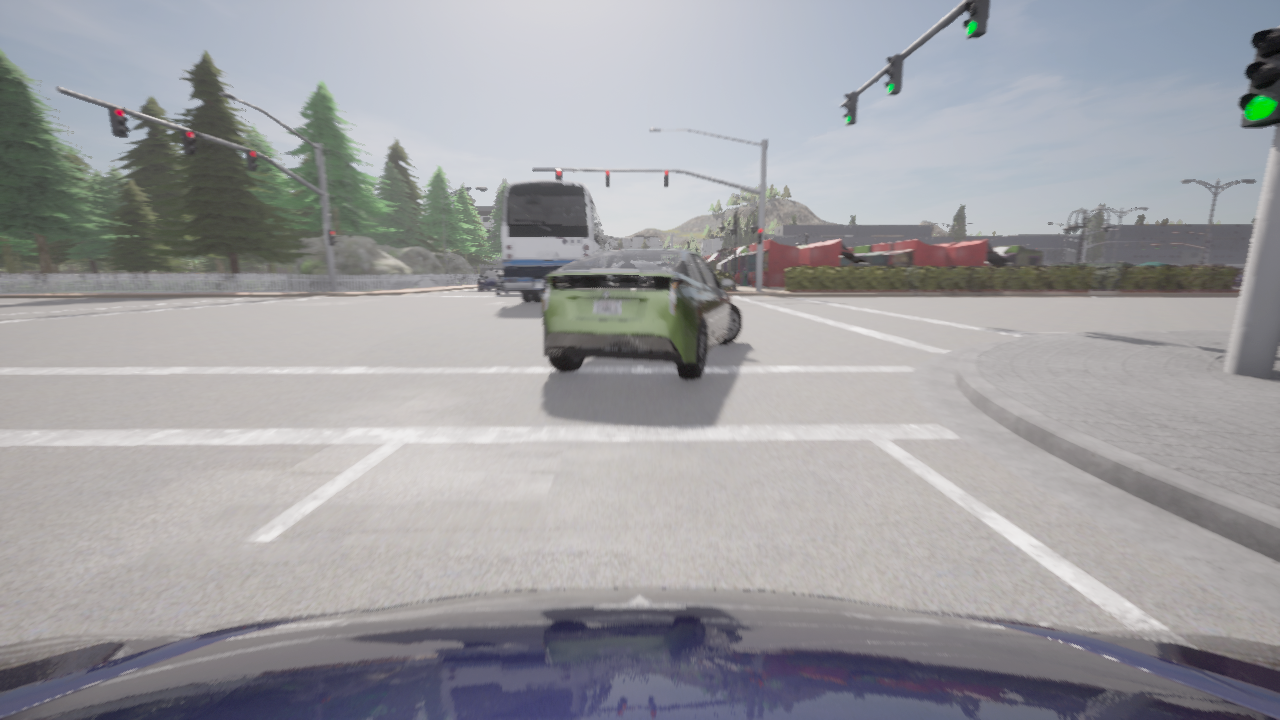cyclist: (0, 588, 1279, 719), (542, 248, 743, 379), (502, 180, 609, 302), (494, 274, 519, 295), (478, 269, 502, 290), (1233, 271, 1244, 285), (1195, 264, 1225, 265), (1239, 269, 1244, 271)
